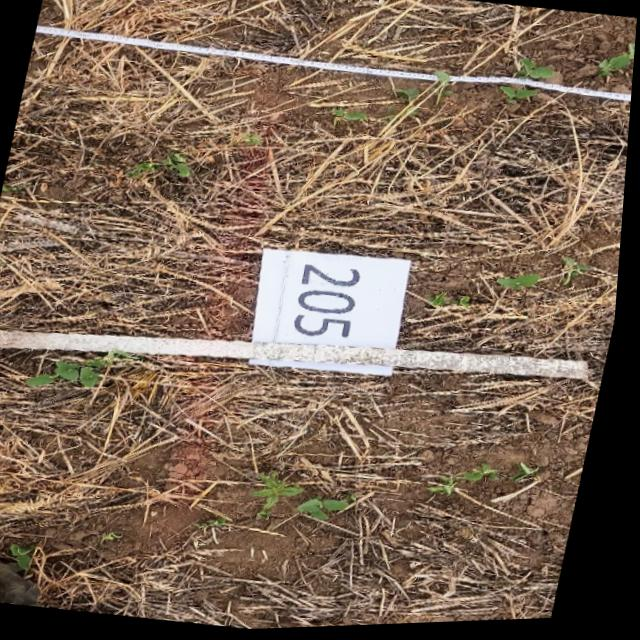caruru_weed: (258, 476, 309, 518)
soy_plant: (32, 360, 114, 389), (435, 467, 505, 500), (128, 153, 192, 180), (305, 500, 356, 523), (566, 260, 593, 290), (517, 62, 555, 83), (431, 295, 474, 312), (599, 59, 631, 81), (500, 279, 544, 295), (501, 89, 538, 107), (18, 545, 41, 570), (333, 110, 367, 124), (396, 91, 421, 103), (240, 134, 263, 147), (436, 74, 450, 88)
